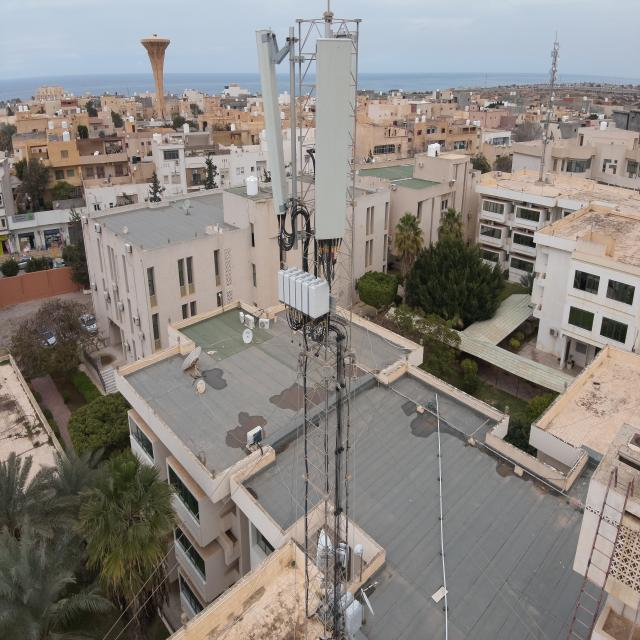antenna: (311, 29, 354, 250), (252, 20, 295, 219)
lighnig-rad: (320, 0, 336, 20)
microware-dish: (315, 523, 360, 575)
power-box: (314, 585, 368, 640)
radio-unit: (276, 265, 332, 320)
